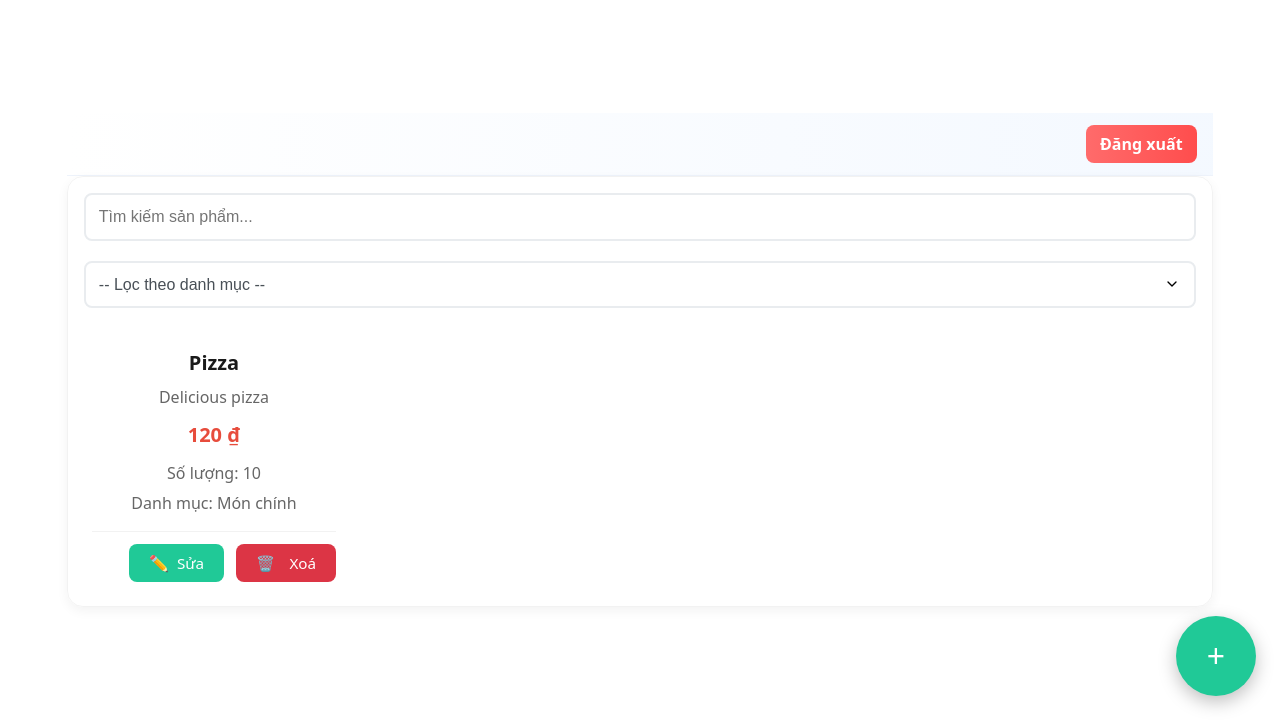
Scenario: Product E2E Tests › Xóa sản phẩm thành công
The width and height of the screenshot is (1280, 720).
Check: the heading "Pizza" is shown, box [189, 348, 239, 376]
Click the button with class "delete-btn": (286,563) [236, 544, 336, 582]
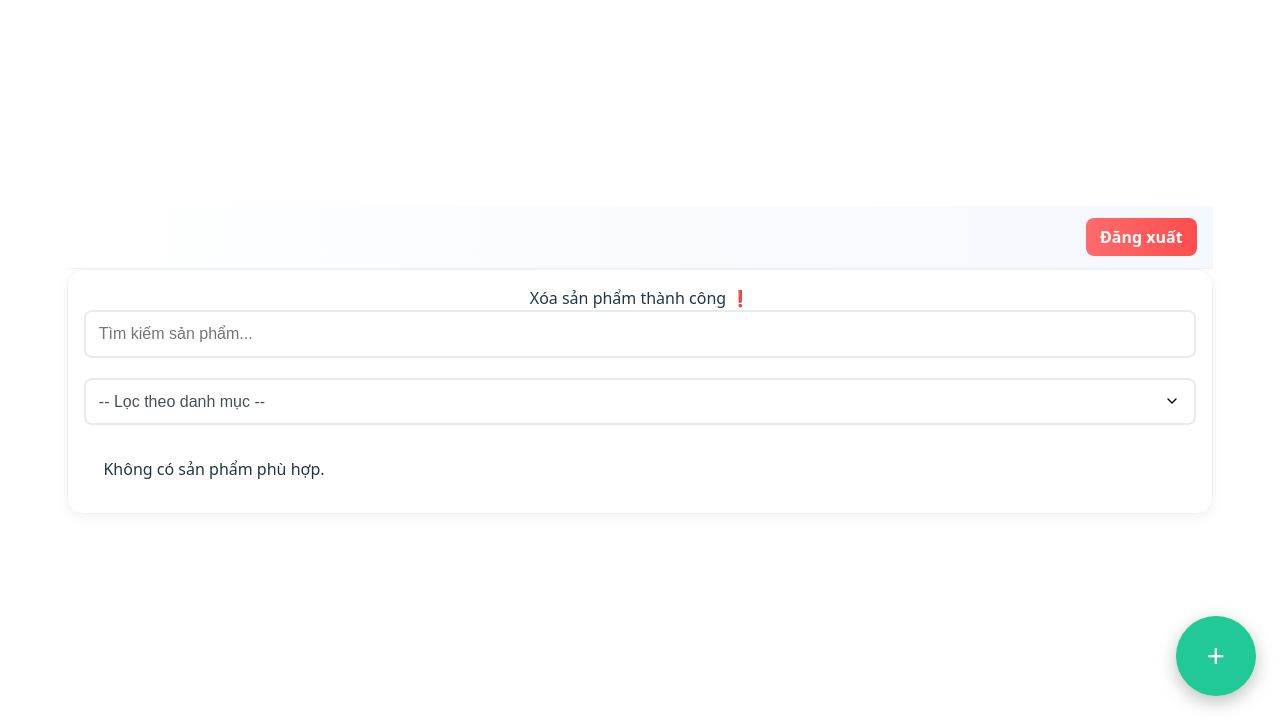
Check: the text with test id ".success-message, [data-cy=\"success-message\"]" reads "Xóa sản phẩm thành công ❗", box [530, 287, 751, 309]
Check: the heading "Pizza" is gone
